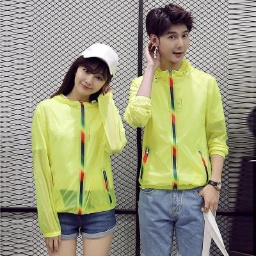face: (141, 4, 196, 70), (62, 51, 116, 105)
